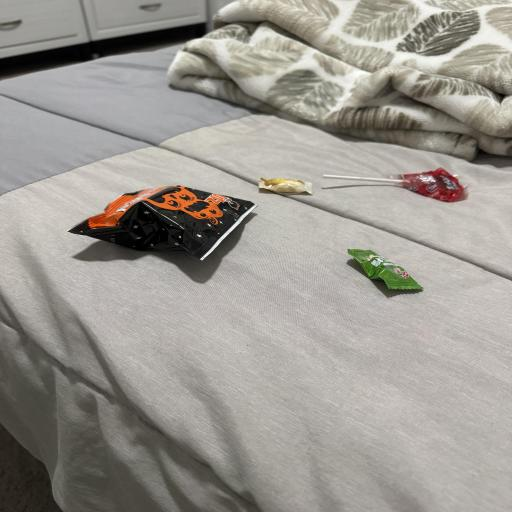chocolate: (70, 186, 255, 260), (348, 250, 422, 289), (402, 168, 463, 202), (259, 178, 312, 194)
